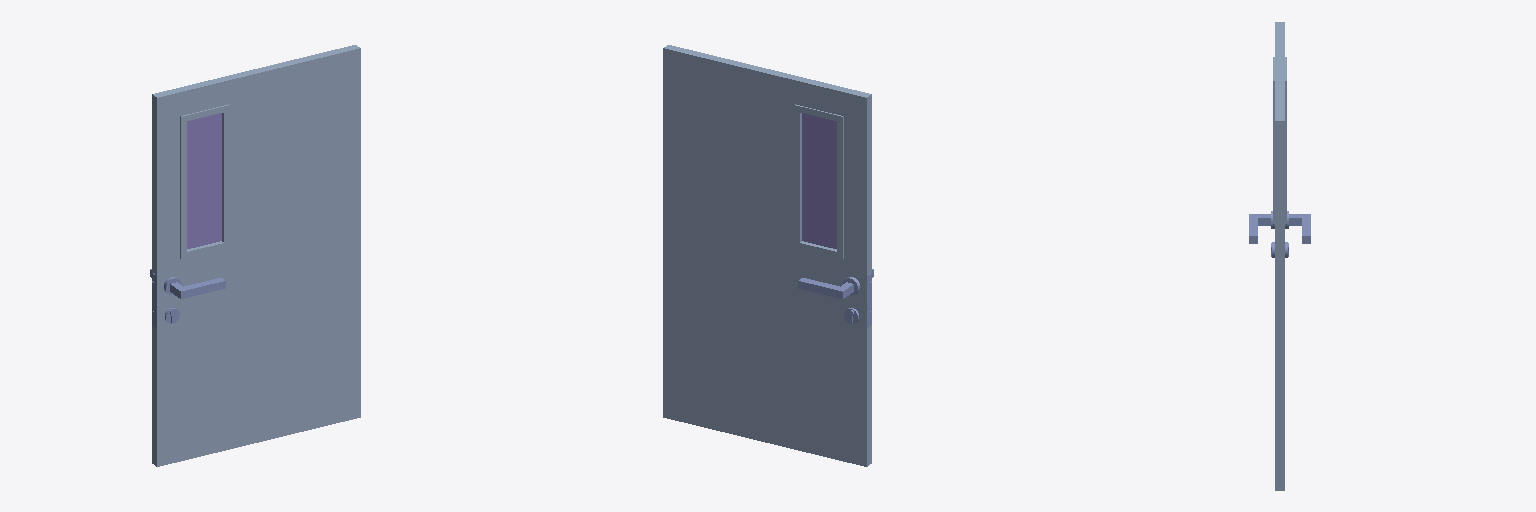
Rendered from door.obj.
3 views of the same model, side by side, from view 1: azimuth 30°, elevation 25°; view 2: azimuth 150°, elevation 25°; view 3: azimuth 270°, elevation 25° (orthographic).
Visible parts, largest first — view 1: Door; view 2: Door; view 3: Door.
Boxes of the visible parts, <box> form: Door: <box>150,45,360,466</box>; Door: <box>663,45,873,466</box>; Door: <box>1249,22,1310,490</box>.
Bounding box in the file's own units: 7.12 × 12.3 × 1.85.